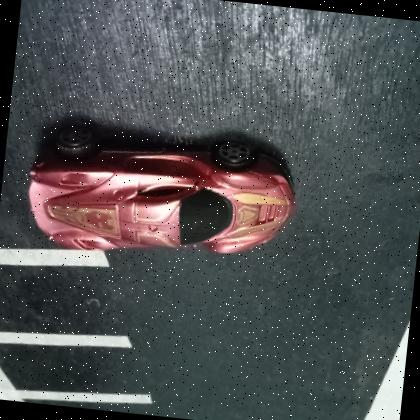Car: (27, 120, 296, 253)
